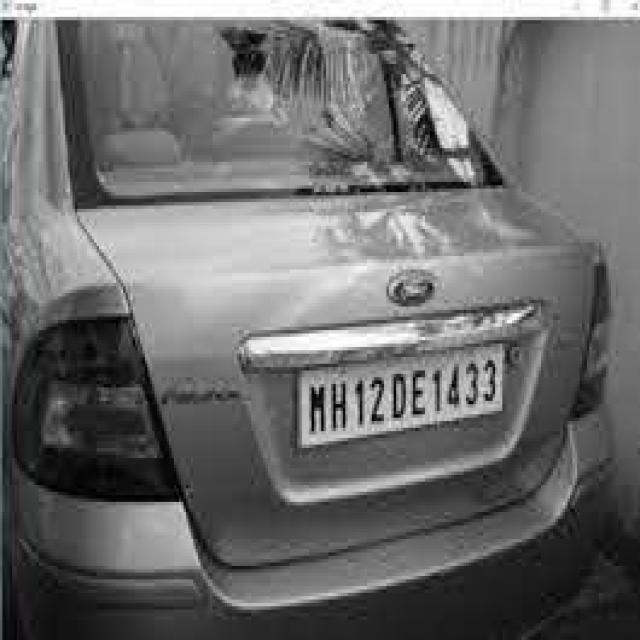number_plate: (297, 340, 502, 435)
